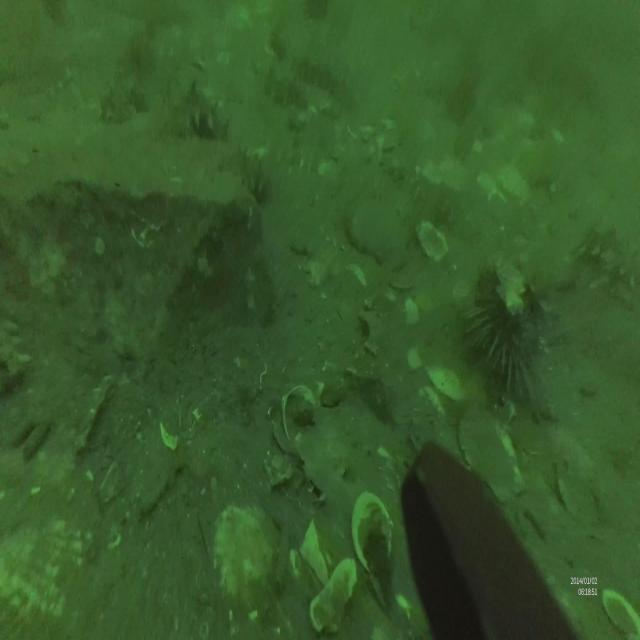echinus: (466, 264, 556, 420)
holothurian: (170, 43, 224, 138), (292, 54, 348, 102), (261, 70, 304, 109)
scallop: (0, 510, 94, 640), (213, 503, 283, 613), (459, 403, 525, 502)
